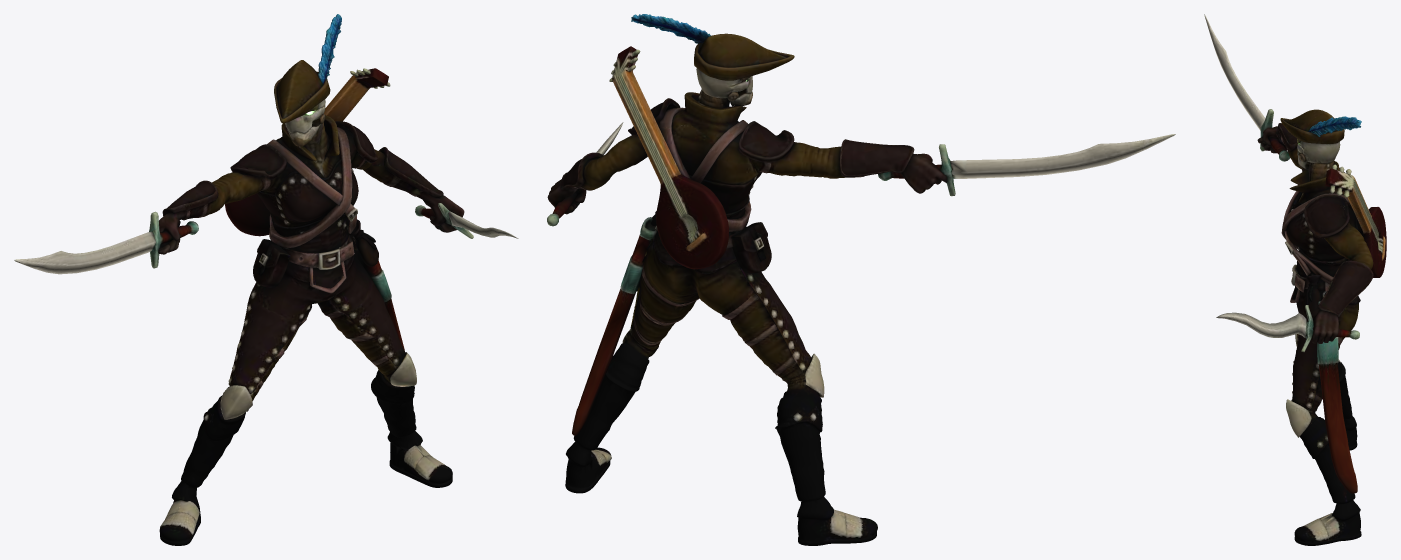
The model's file is MZ4250 - Warforged Duelist Bard_2.glb.
3 views of the same model, side by side, from view 1: azimuth 30°, elevation 25°; view 2: azimuth 150°, elevation 25°; view 3: azimuth 270°, elevation 25° (orthographic). The views are drawn at different scales.
Parts seen in each view (by area): view 1: Strap Belt.001; view 2: Strap Belt.001; view 3: Strap Belt.001.
Boxes of the visible parts, left/top/right/bottom form: Strap Belt.001: left=14, top=14, right=518, bottom=545; Strap Belt.001: left=547, top=14, right=1175, bottom=545; Strap Belt.001: left=1204, top=14, right=1386, bottom=545.
Size of the model in its own units: 108 by 92.15 by 38.82.
1 material, 1 textured.
